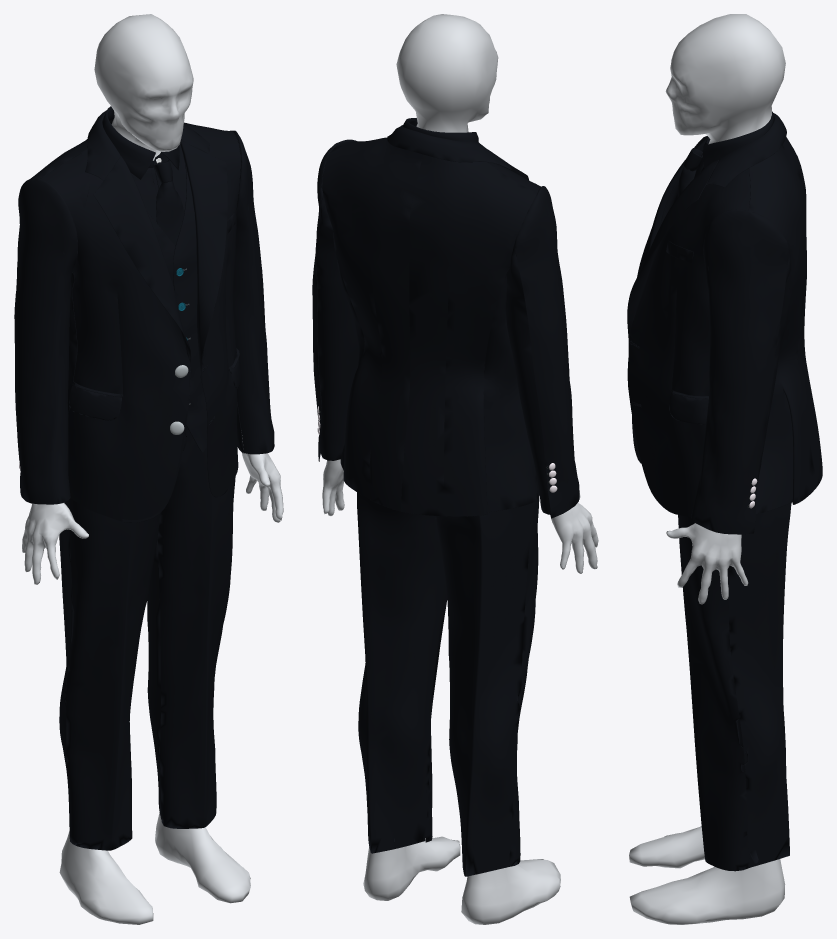
File: finalblack_suit.glb
3 views of the same model, side by side, from view 1: azimuth 30°, elevation 25°; view 2: azimuth 150°, elevation 25°; view 3: azimuth 270°, elevation 25° (orthographic). The views are drawn at different scales.
Visible parts, largest first — view 1: black_suit; view 2: black_suit; view 3: black_suit.
Part boxes in pixels (box(x1,y1,x2,y2)): black_suit: box(14, 14, 283, 924); black_suit: box(312, 14, 598, 924); black_suit: box(627, 14, 822, 924).
Bounding box in the file's own units: 2.19 × 7.15 × 1.46.
Materials: 7 (7 with a texture image).
